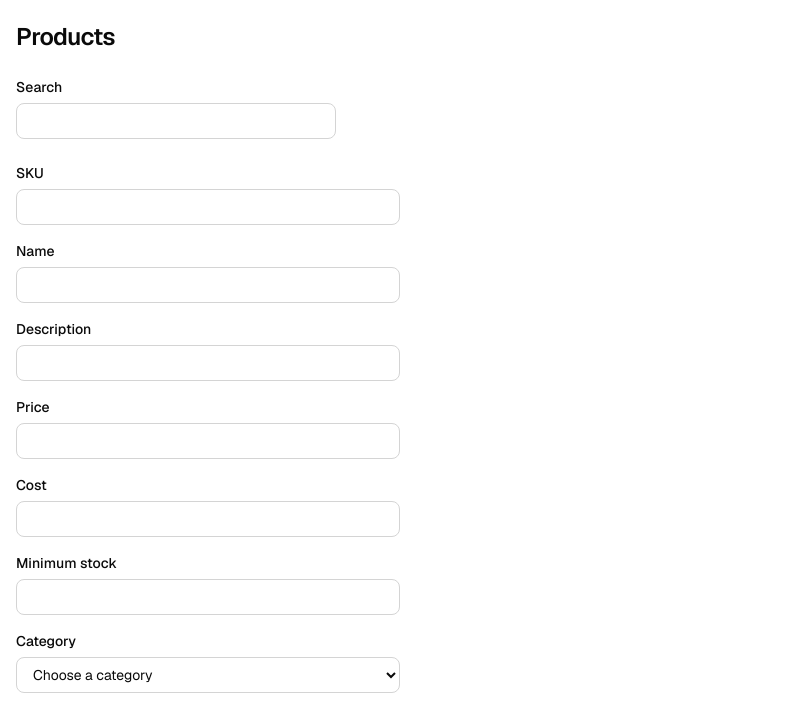
Test case: products panel › prints the conflict detail inline when the SKU is already taken
The width and height of the screenshot is (801, 704).
In the field labelled "SKU": (208, 207) [16,189,400,225], type "cafe-1"
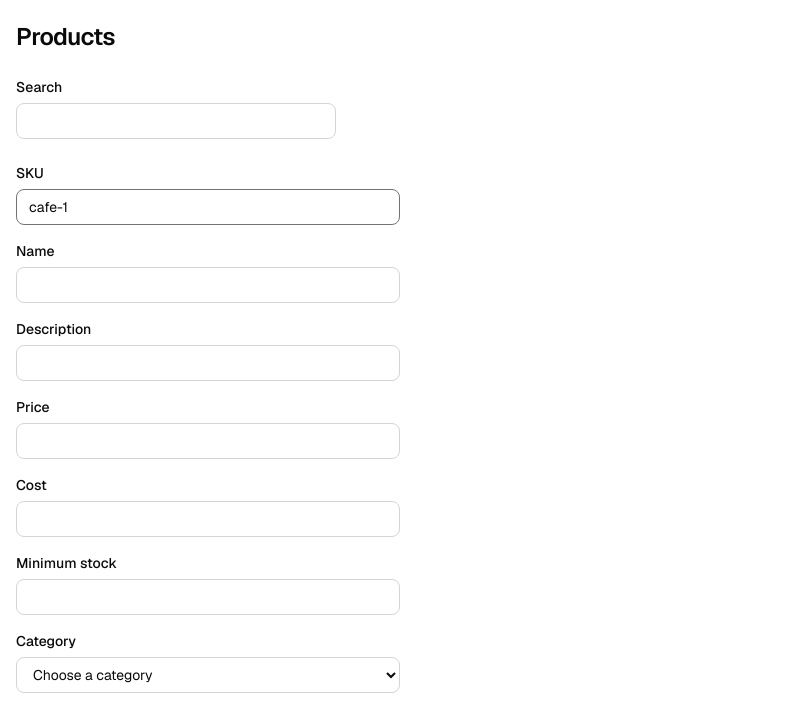
In the field labelled "Name": (208, 285) [16,267,400,303], type "Repetido"
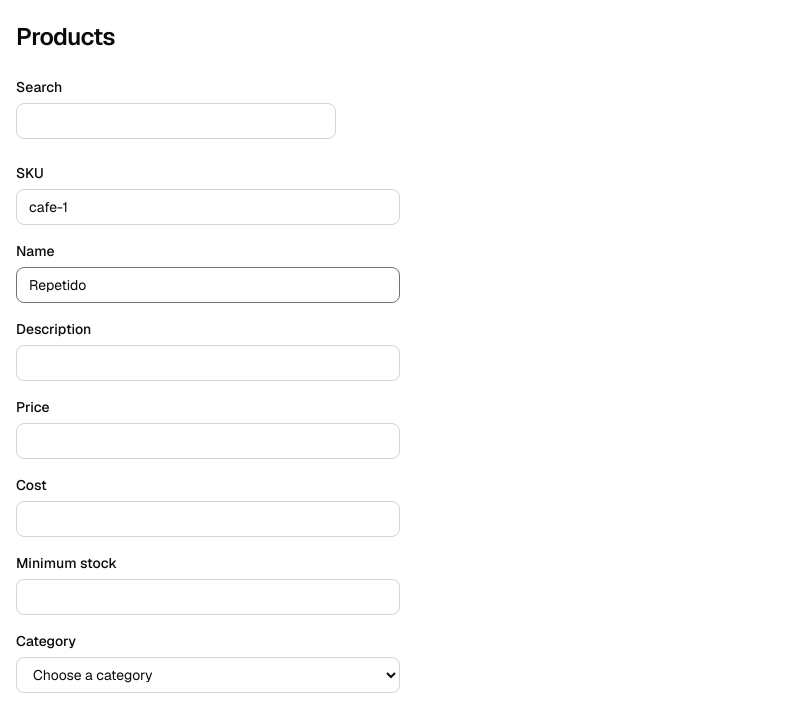
In the number field labelled "Price": (208, 441) [16,423,400,459], type "10"
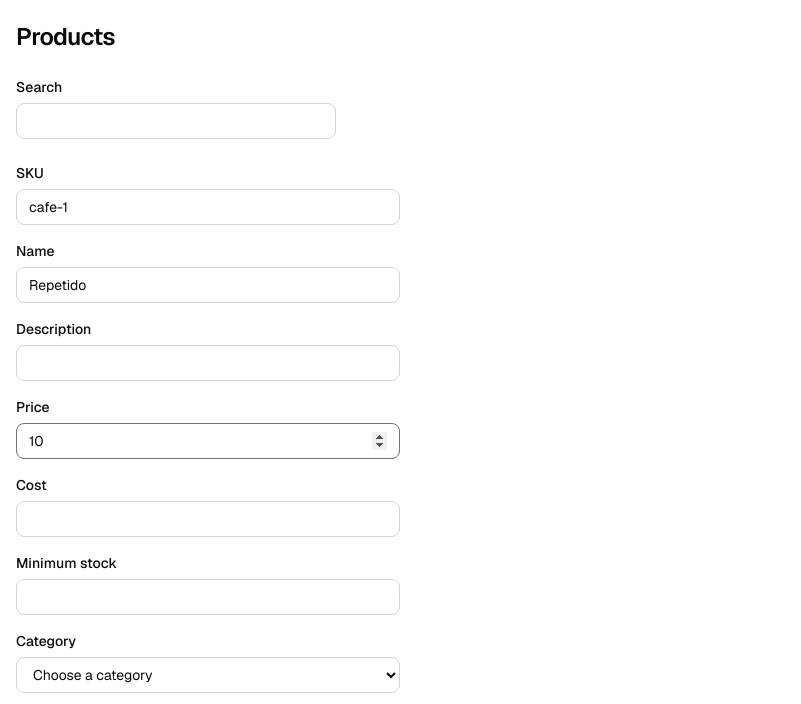
Select "Padaria" in the dropdown labelled "Category": (208, 675) [16,657,400,693]
(page scrolled)
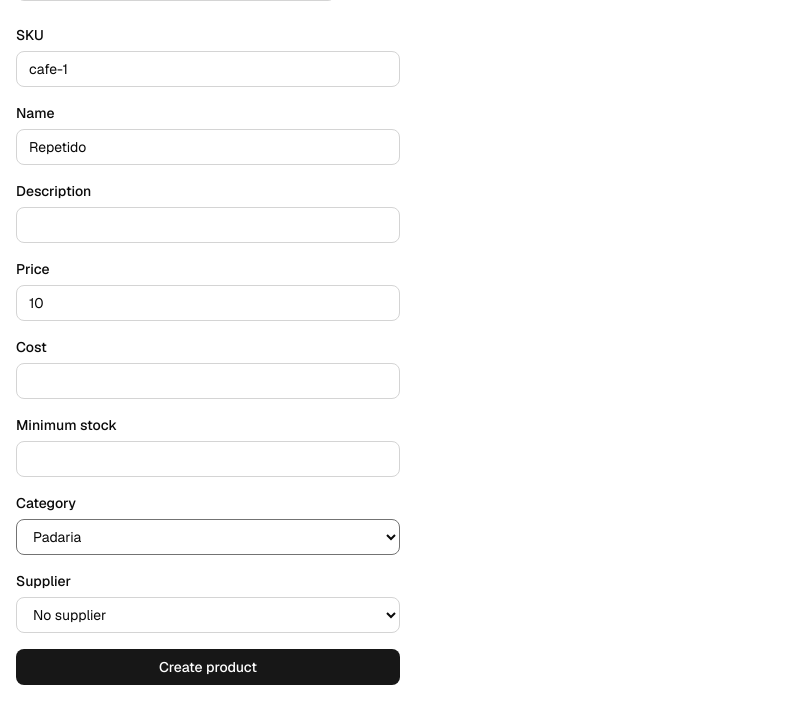
Click the button "Create product": click(208, 667) [16,649,400,685]
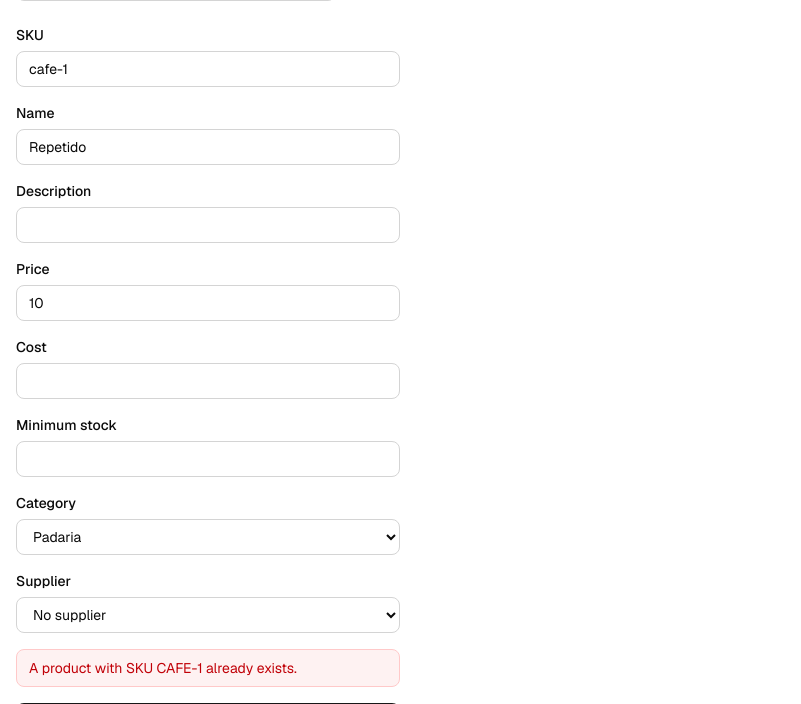
Expected: the message reads "A product with SKU CAFE-1 already exists.", [29,659,297,677]
